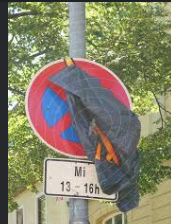No Stopping: (17, 36, 132, 164)
